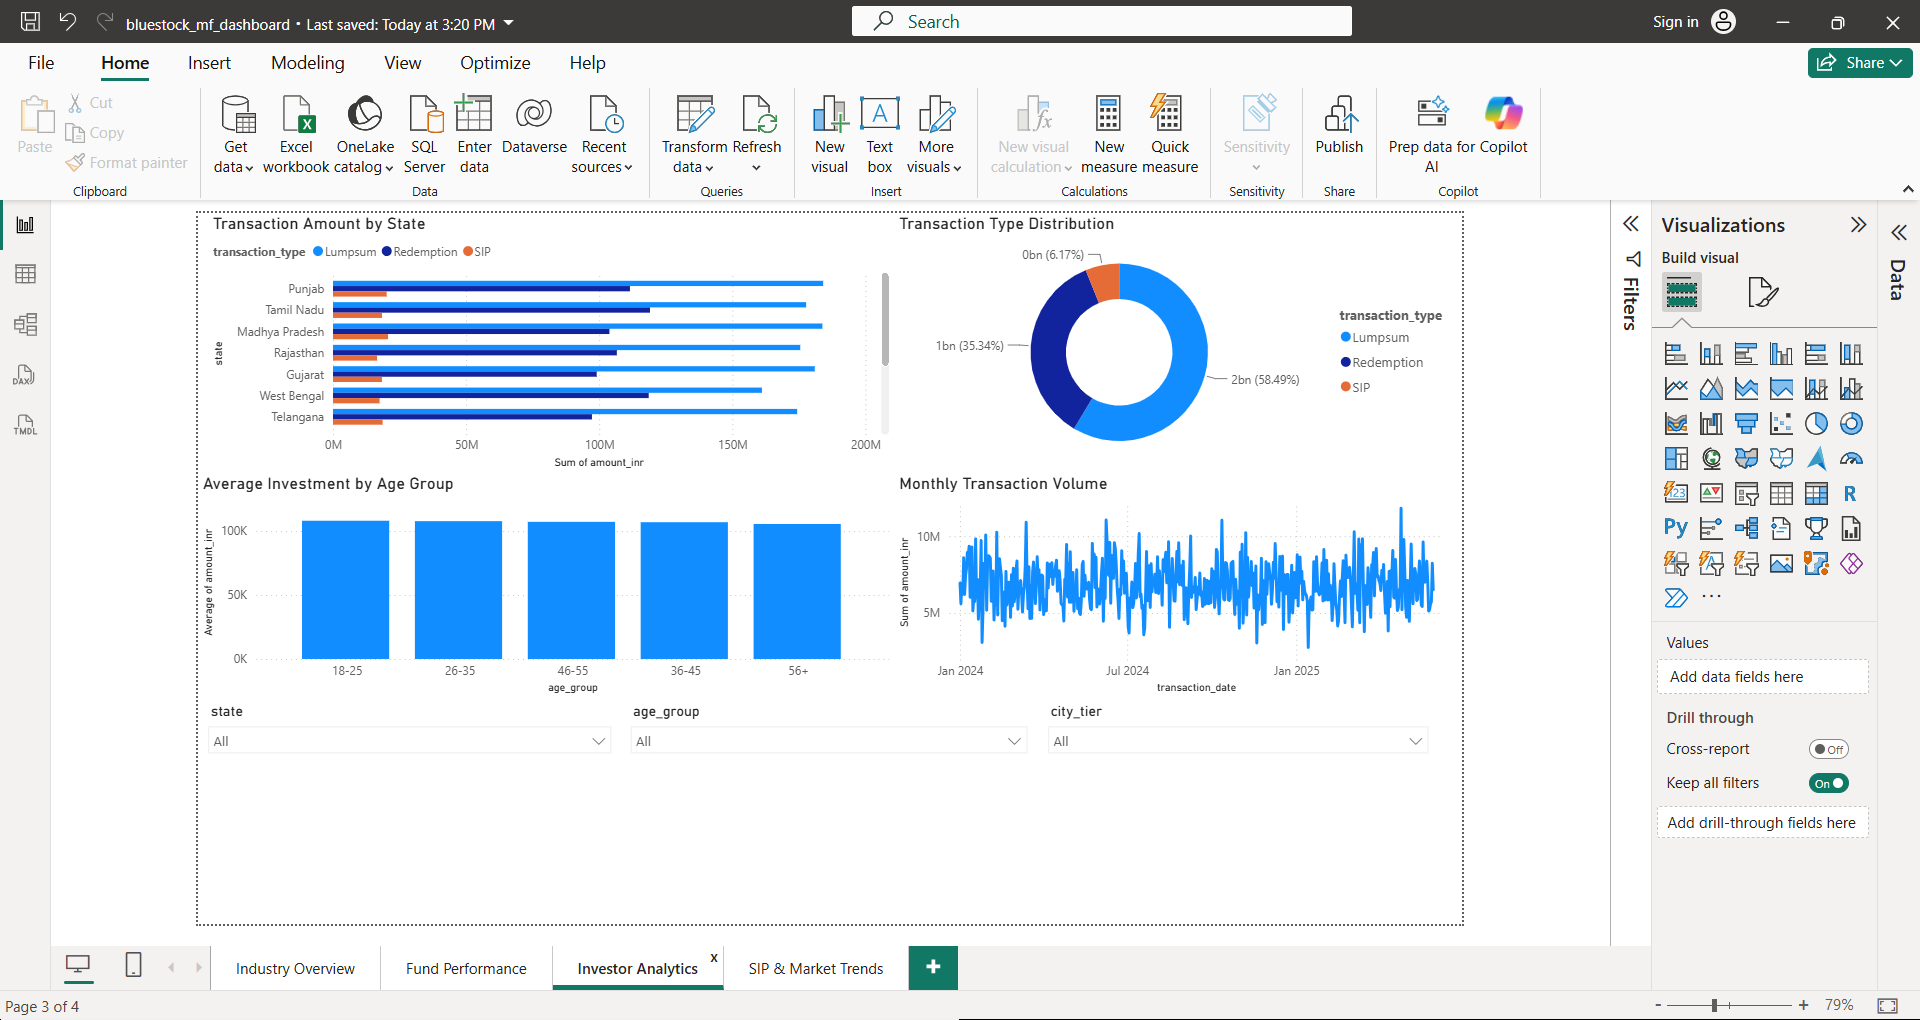

This screenshot's page, from the dashboard's own definition file:
{"tool":"powerbi","page":{"name":"Investor Analytics","canvas":[1280,720],"ordinal":2},"visuals":[{"type":"clusteredBarChart","title":"Transaction Amount by State","fields":{"Category":["08_investor_transactions.state"],"Y":["Sum(08_investor_transactions.amount_inr)"],"Series":["08_investor_transactions.transaction_type"]},"box":[10,0,695,263.3],"z":0},{"type":"clusteredColumnChart","title":"Average Investment by Age Group","fields":{"Category":["08_investor_transactions.age_group"],"Y":["Avg(08_investor_transactions.amount_inr)"]},"box":[0,263.3,705,228.3],"z":1},{"type":"lineChart","title":"Monthly Transaction Volume","fields":{"Y":["Sum(08_investor_transactions.amount_inr)"],"Category":["08_investor_transactions.transaction_date"]},"box":[705,263.3,575,228.3],"z":2},{"type":"donutChart","title":"Transaction Type Distribution","fields":{"Category":["08_investor_transactions.transaction_type"],"Y":["Sum(08_investor_transactions.amount_inr)"]},"box":[705,0,575,263.3],"z":3},{"type":"slicer","fields":{"Values":["08_investor_transactions.state"]},"box":[0,491.7,428.3,228.3],"z":4},{"type":"slicer","fields":{"Values":["08_investor_transactions.age_group"]},"box":[428.3,491.7,421.7,228.3],"z":5},{"type":"slicer","fields":{"Values":["08_investor_transactions.city_tier"]},"box":[850,491.7,405,228.3],"z":6}]}

Visuals, with their boxes on the page's 1280x720 design canvas (x1, y1, x2, y2). These are canvas units, not pixel positions in the 1920x1020 screenshot, which may show the page scaled, cropped or inside an application window:
"Transaction Amount by State" clusteredBarChart: box(10, 0, 705, 263)
"Average Investment by Age Group" clusteredColumnChart: box(0, 263, 705, 492)
"Monthly Transaction Volume" lineChart: box(705, 263, 1280, 492)
"Transaction Type Distribution" donutChart: box(705, 0, 1280, 263)
slicer - 08_investor_transactions.state: box(0, 492, 428, 720)
slicer - 08_investor_transactions.age_group: box(428, 492, 850, 720)
slicer - 08_investor_transactions.city_tier: box(850, 492, 1255, 720)
